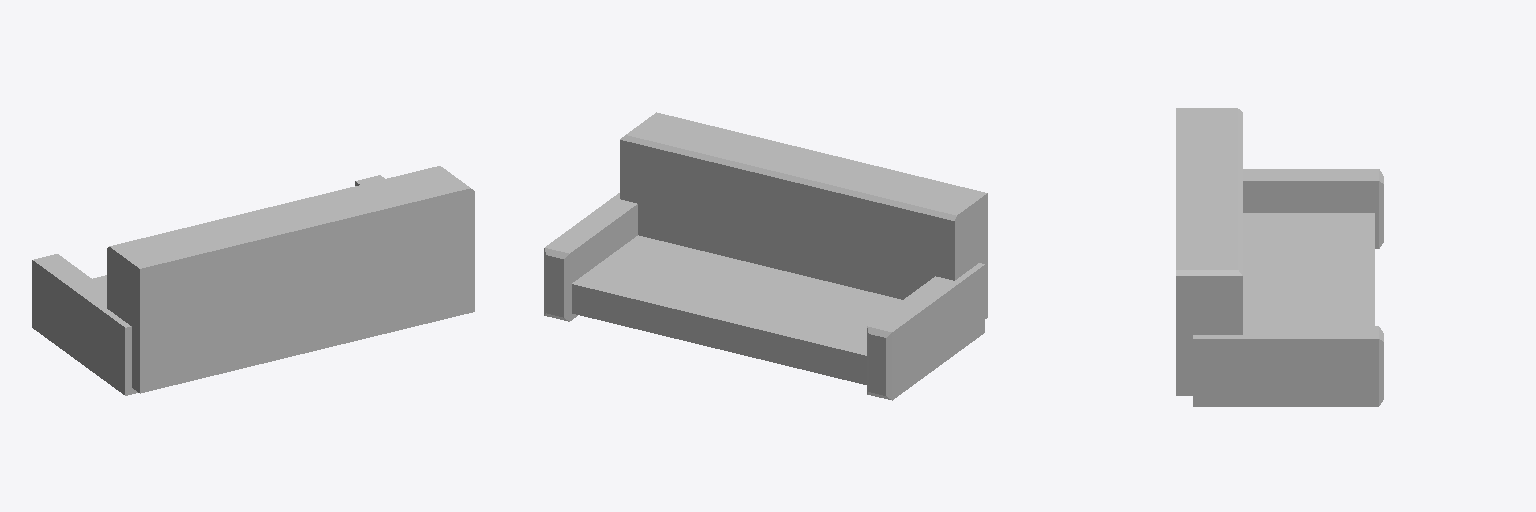
File: lowpolycouch.obj
3 views of the same model, side by side, from view 1: azimuth 30°, elevation 25°; view 2: azimuth 150°, elevation 25°; view 3: azimuth 270°, elevation 25° (orthographic).
Parts seen in each view (by area): view 1: Cube, Cube.002; view 2: Cube, Cube.002, Cube.003; view 3: Cube, Cube.003, Cube.002.
Part boxes in pixels (x1,y1,x2,y2): Cube: (93, 166, 474, 393); Cube.002: (32, 254, 137, 395); Cube: (572, 112, 987, 384); Cube.002: (867, 263, 984, 400); Cube.003: (544, 193, 637, 321); Cube: (1176, 108, 1374, 395); Cube.003: (1193, 326, 1383, 406); Cube.002: (1243, 169, 1383, 248).
Bounding box in the file's own units: 12.85 × 4.65 × 6.63.